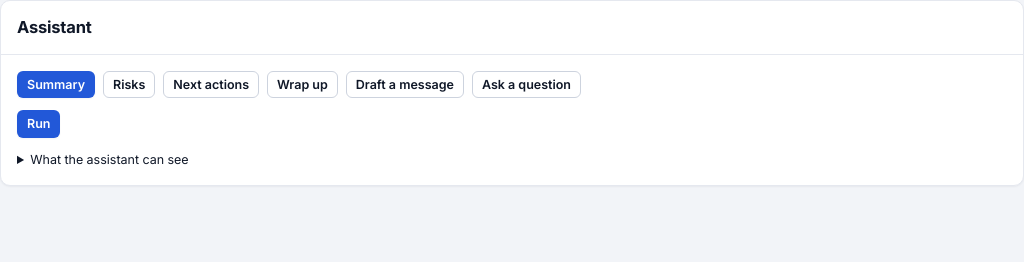
AssistPanel › surfaces a permission refusal from the server
Click the button "Run" at (39, 124), box [17,110,60,138]
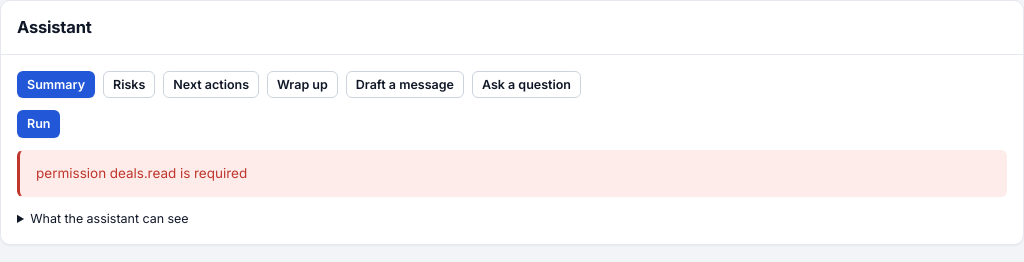
Expected: the message reads "permission deals.read is required", [36,165,247,181]
